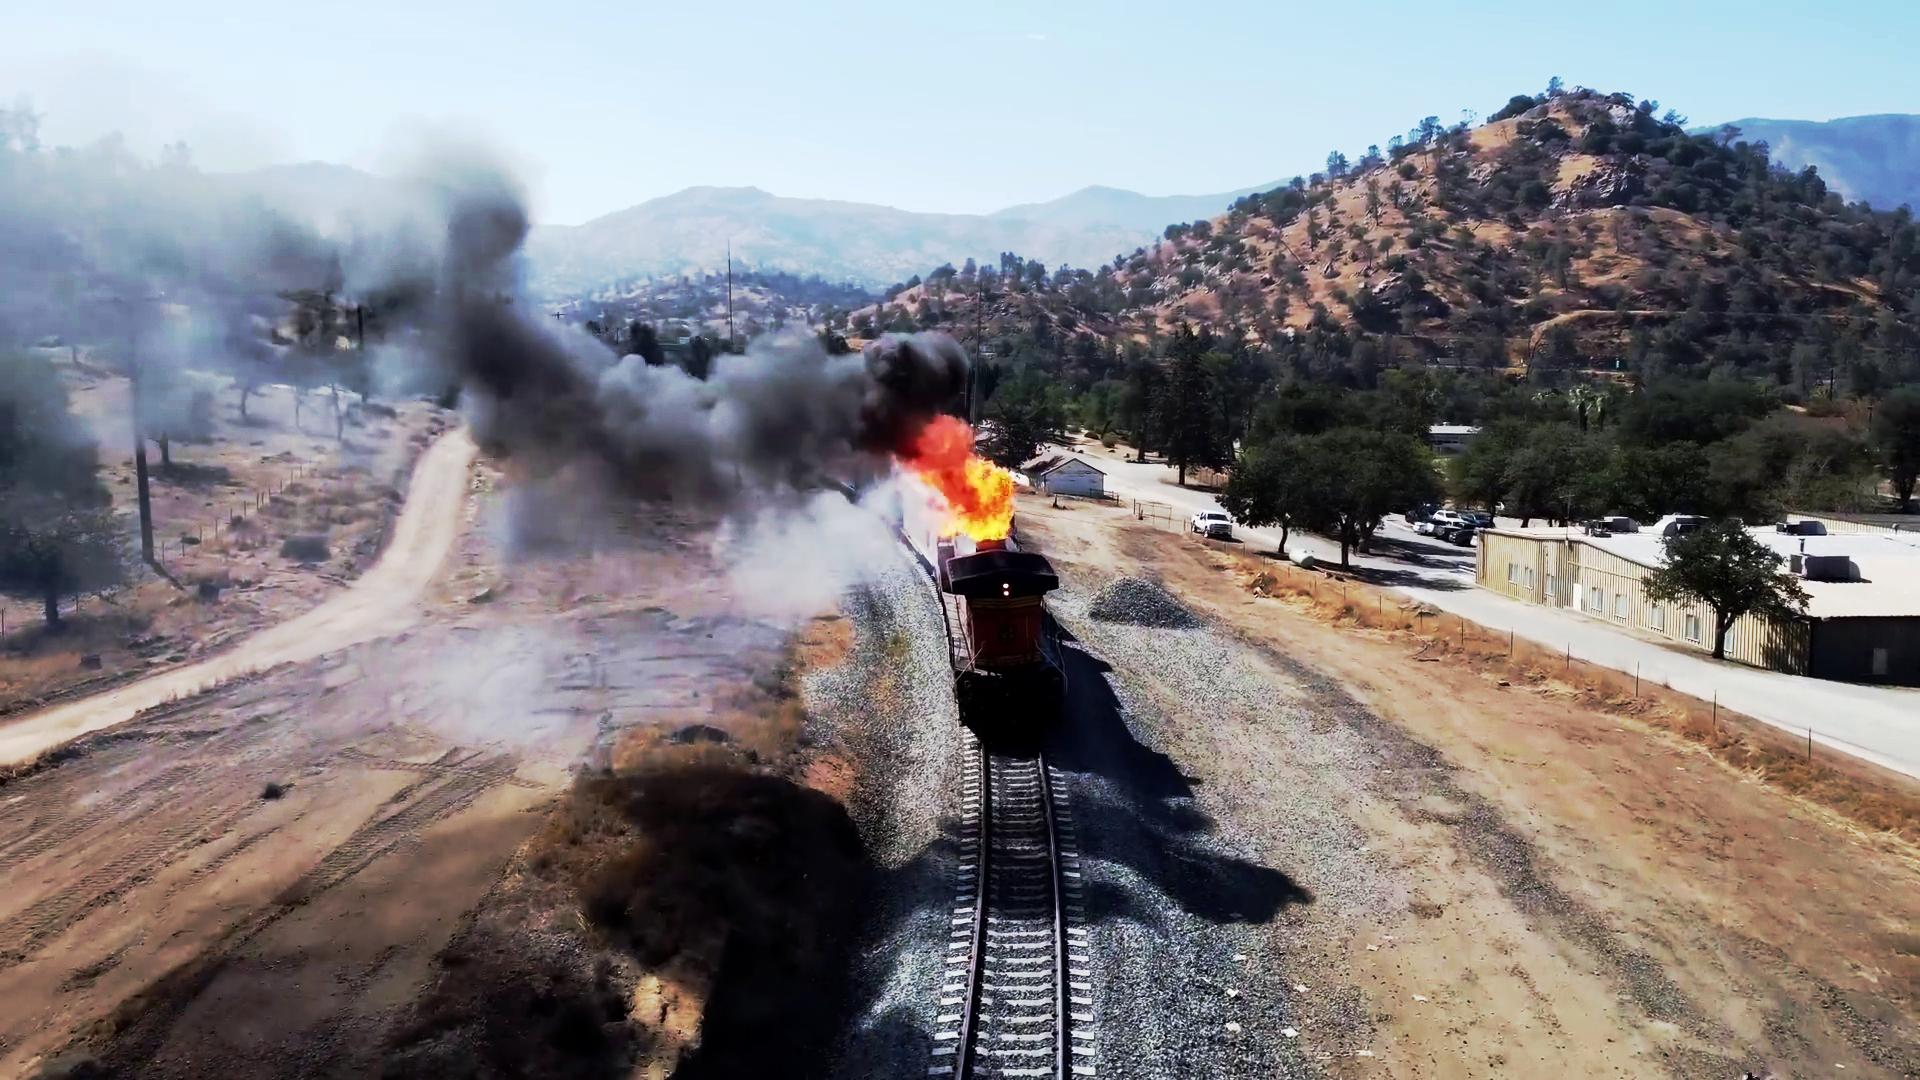fire: (928, 428, 1017, 548)
smoke: (593, 333, 813, 487), (468, 343, 645, 483), (785, 333, 958, 447)
